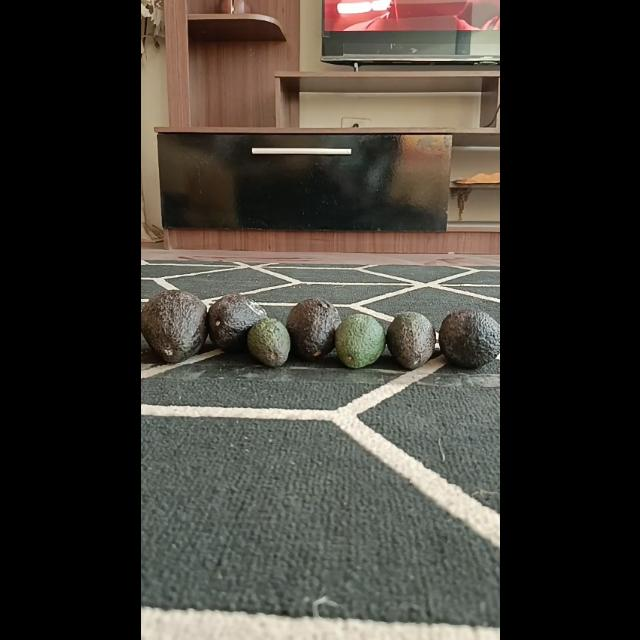Primera: (140, 291, 208, 364), (438, 308, 498, 368), (207, 294, 266, 352), (285, 298, 339, 360)
Segunda: (386, 311, 436, 369), (334, 315, 386, 369)
Tercera: (246, 317, 290, 367)
